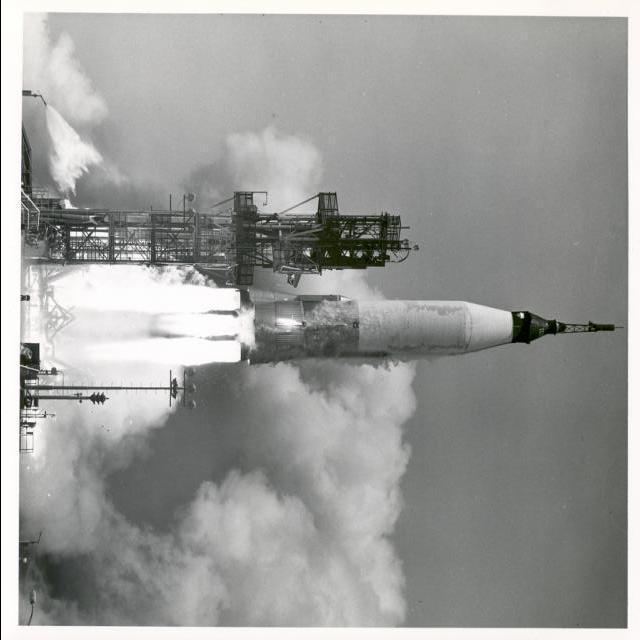missile: (192, 291, 638, 373)
